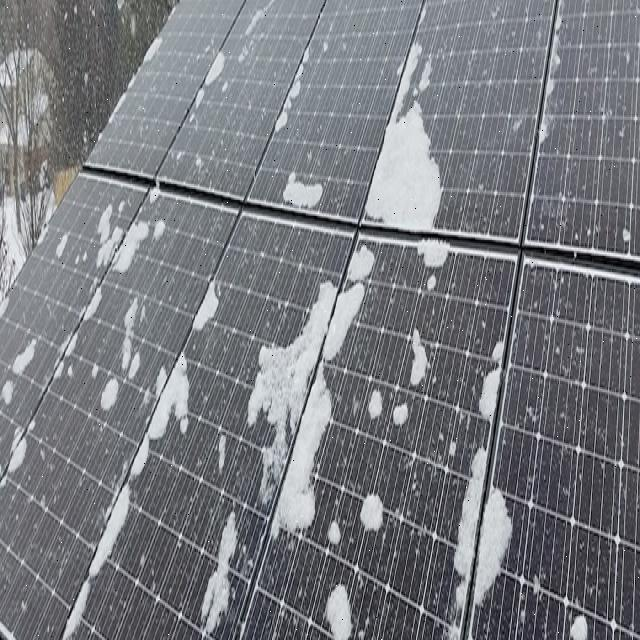Anomaly Solar Panel: (61, 214, 357, 640), (237, 225, 524, 640), (1, 191, 240, 640), (470, 264, 638, 638), (362, 0, 553, 247), (0, 156, 145, 468), (245, 0, 419, 229), (152, 0, 322, 209), (82, 0, 240, 193), (527, 0, 638, 256)
Snow: (216, 260, 344, 505), (352, 43, 486, 237), (267, 361, 341, 544), (60, 485, 137, 639), (446, 448, 486, 611), (528, 0, 571, 147), (146, 350, 206, 450), (91, 205, 171, 277), (197, 512, 243, 636), (265, 46, 321, 137), (473, 481, 511, 604), (314, 277, 366, 365), (182, 51, 228, 133), (473, 336, 506, 424), (86, 201, 128, 267), (236, 0, 278, 65), (115, 292, 142, 381), (532, 210, 604, 242), (116, 435, 162, 485), (189, 278, 227, 335), (318, 580, 354, 639), (49, 328, 84, 384), (279, 166, 324, 206), (5, 333, 41, 379), (406, 324, 431, 389), (2, 433, 38, 477), (92, 368, 124, 415), (356, 490, 387, 536), (346, 243, 379, 286), (77, 284, 110, 325), (165, 146, 213, 174), (137, 35, 165, 68), (212, 428, 230, 477), (50, 225, 73, 260), (562, 614, 593, 639), (416, 244, 448, 266), (323, 521, 345, 549), (439, 619, 463, 640), (419, 272, 442, 292), (616, 223, 636, 246), (365, 393, 382, 419), (0, 375, 15, 404), (391, 402, 409, 425), (0, 298, 11, 318), (148, 191, 160, 204), (220, 80, 230, 92)
